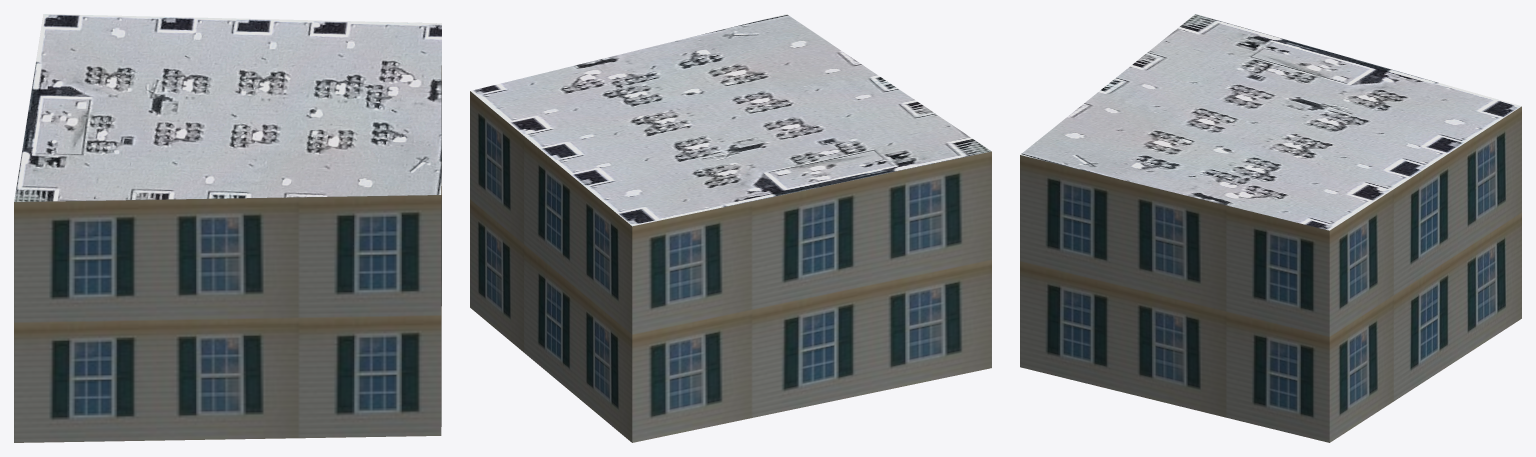
Rendered from ResTex__3791.fbx.
The picture shows the model from 3 angles, left to right: view 1: azimuth 30°, elevation 25°; view 2: azimuth 150°, elevation 25°; view 3: azimuth 270°, elevation 25°; orthographic projection. The views are drawn at different scales.
Visible parts, largest first — view 1: CityEngineMaterial_7_m, CityEngineMaterial_15_m; view 2: CityEngineMaterial_7_m, CityEngineMaterial_15_m; view 3: CityEngineMaterial_7_m, CityEngineMaterial_15_m.
Part boxes in pixels (box(x1,y1,x2,y2)): CityEngineMaterial_7_m: box(14, 65, 441, 442); CityEngineMaterial_15_m: box(14, 14, 441, 201); CityEngineMaterial_7_m: box(470, 91, 991, 442); CityEngineMaterial_15_m: box(470, 14, 991, 226); CityEngineMaterial_7_m: box(1020, 106, 1521, 442); CityEngineMaterial_15_m: box(1020, 14, 1521, 230).
Size of the model in its own units: 13.13 by 6 by 12.86.
Materials: 2 (2 with a texture image).
